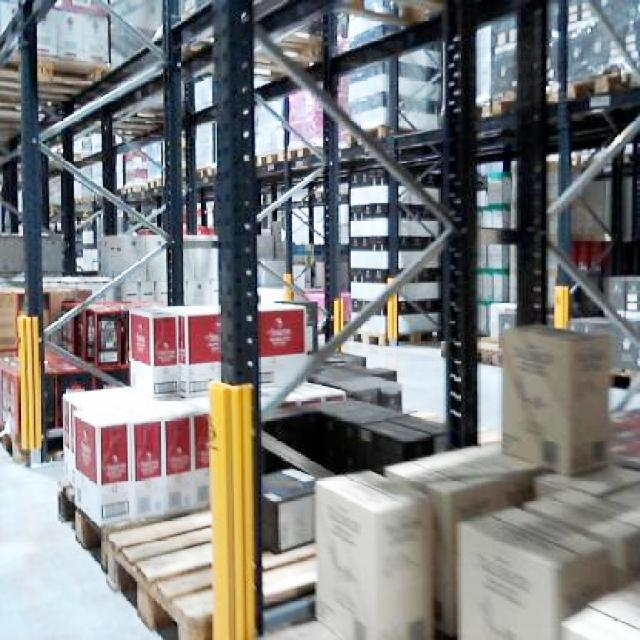ground: (0, 335, 638, 638)
pallet: (55, 477, 318, 638), (103, 506, 214, 638), (0, 285, 91, 355)
